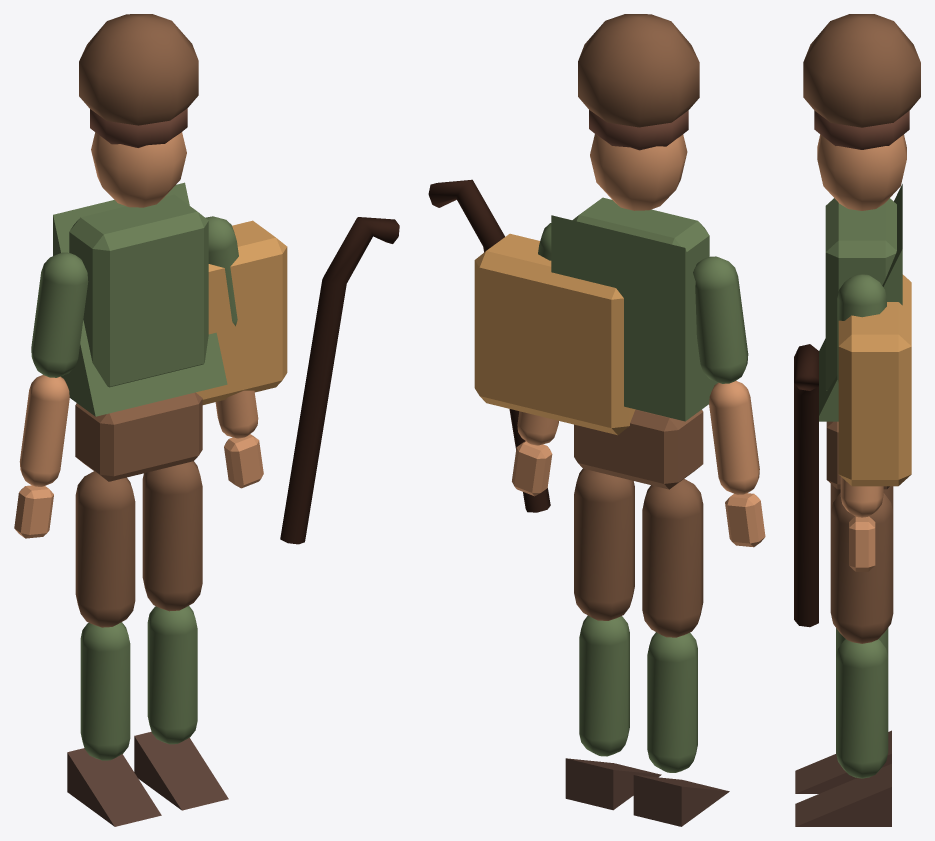
Rendered from adventurer.rustic.glb.
3 renders of one model, left to right at view 1: azimuth 30°, elevation 25°; view 2: azimuth 150°, elevation 25°; view 3: azimuth 270°, elevation 25°, orthographic.
Visible parts, largest first — view 1: torso, accessory.back, accessory.head, accessory.main-hand, thigh.left, pelvis, thigh.right, tunic, shin.right, shin.left, upper-arm.left, head (+8 smaller); view 2: accessory.back, tunic, accessory.head, thigh.left, thigh.right, pelvis, shin.right, shin.left, upper-arm.left, head, forearm.left, torso (+7 smaller); view 3: accessory.back, accessory.head, accessory.main-hand, shin.right, thigh.right, torso, head, foot.right, tunic, hair, upper-arm.right, foot.left (+5 smaller).
Boxes of the visible parts, x1,y1,x2,y2 form: torso: [69, 194, 208, 387]; accessory.back: [196, 220, 287, 404]; accessory.head: [79, 14, 198, 125]; accessory.main-hand: [280, 217, 399, 544]; thigh.left: [75, 471, 135, 627]; pelvis: [75, 392, 202, 481]; thigh.right: [142, 461, 202, 611]; tunic: [53, 182, 227, 416]; shin.right: [147, 606, 197, 744]; shin.left: [80, 622, 130, 760]; upper-arm.left: [31, 252, 88, 377]; head: [91, 132, 186, 207]; accessory.back: [474, 233, 635, 435]; tunic: [551, 215, 717, 421]; accessory.head: [578, 14, 699, 127]; thigh.left: [642, 479, 703, 637]; thigh.right: [574, 468, 634, 620]; pelvis: [574, 409, 703, 489]; shin.right: [579, 615, 629, 756]; shin.left: [647, 632, 697, 772]; upper-arm.left: [693, 256, 748, 383]; head: [590, 134, 687, 210]; forearm.left: [709, 381, 759, 494]; torso: [572, 197, 709, 271]; accessory.back: [838, 274, 911, 486]; accessory.head: [803, 14, 920, 127]; accessory.main-hand: [794, 344, 818, 627]; shin.right: [836, 639, 888, 778]; thigh.right: [830, 493, 893, 643]; torso: [825, 198, 896, 390]; head: [817, 134, 906, 210]; foot.right: [795, 763, 891, 826]; tunic: [819, 184, 902, 421]; hair: [814, 110, 909, 149]; upper-arm.right: [837, 274, 886, 384]; foot.left: [795, 730, 891, 793].
Size of the model in its own units: 1.57 by 3.29 by 0.4848.
